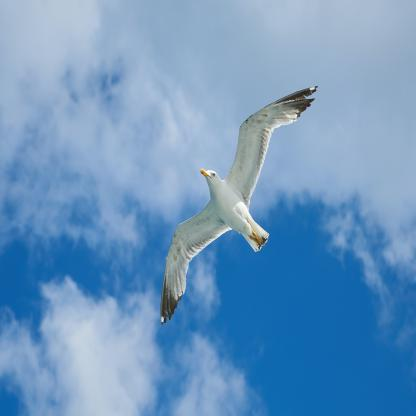bird: (160, 85, 317, 324)
